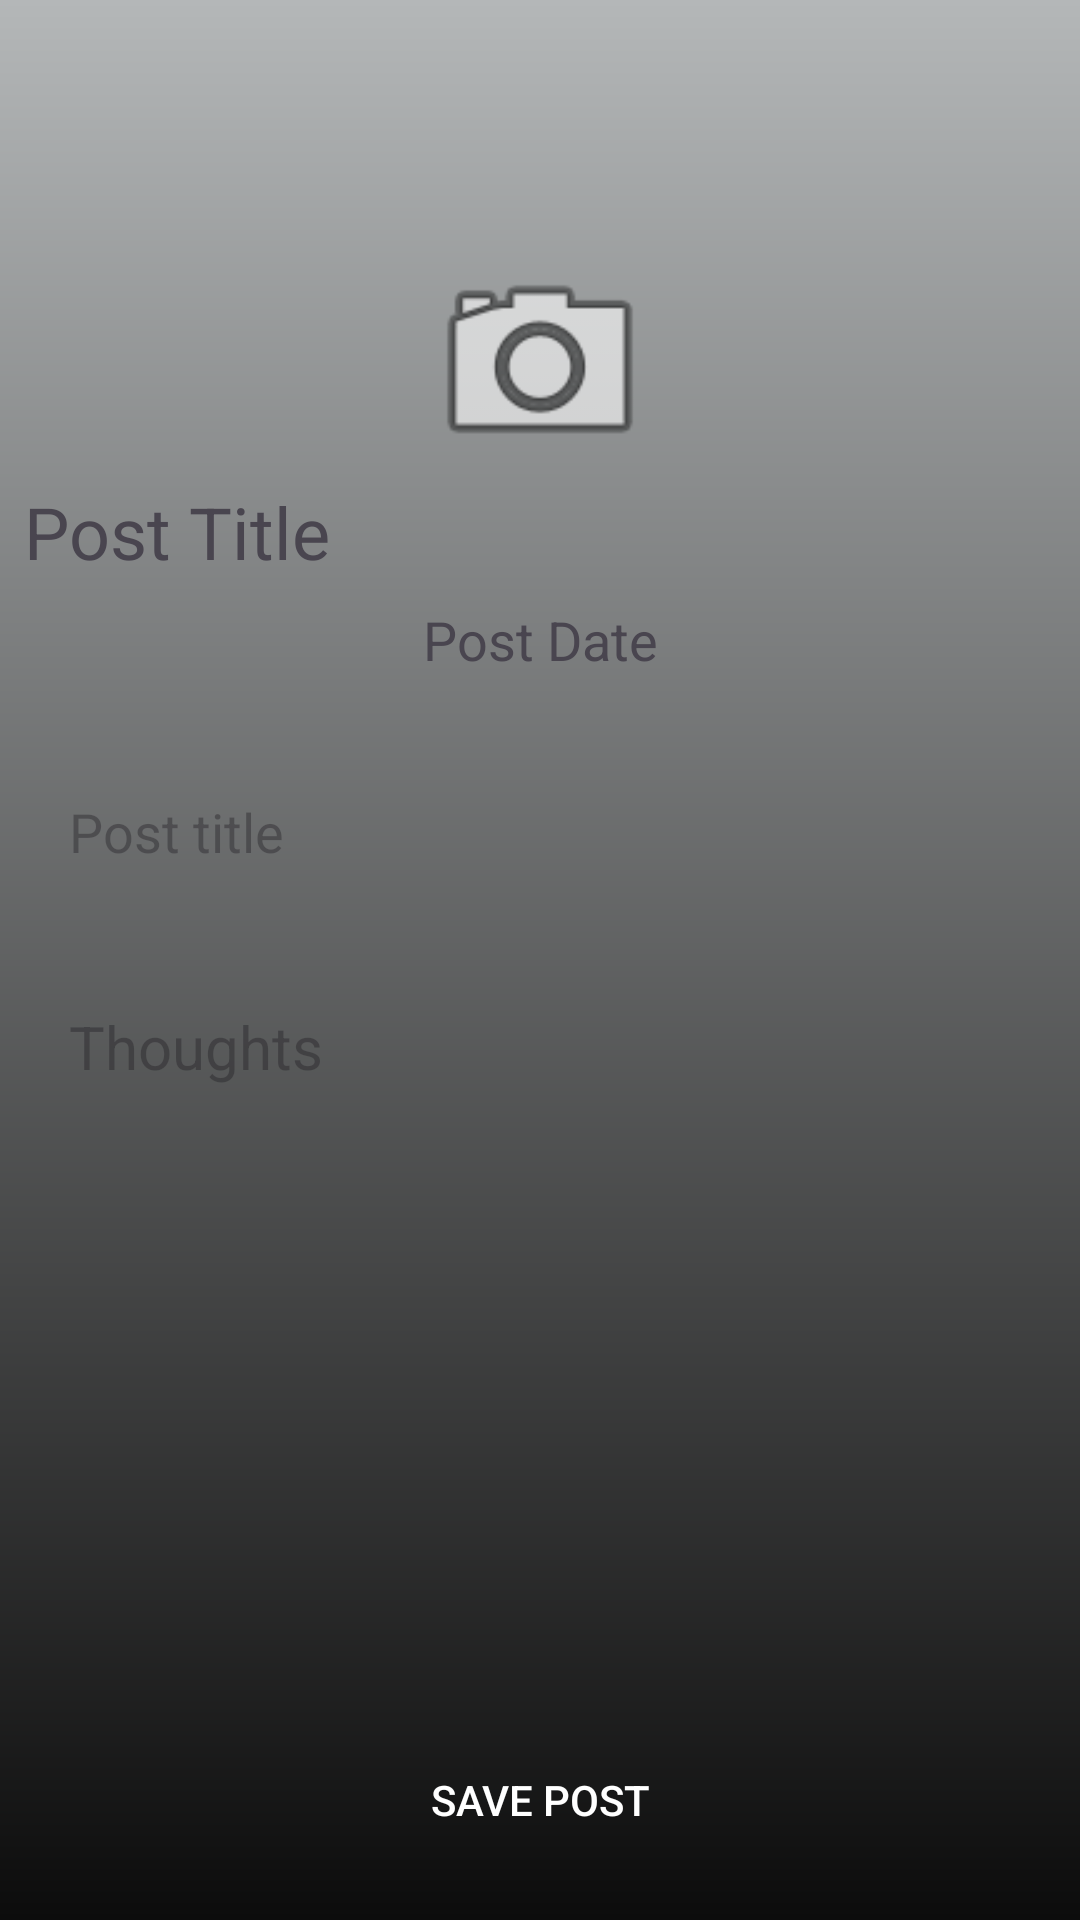

Where to tap for icons on this 1080w x 1920h app screen, as point (x, y):
camera: point (540, 359)
